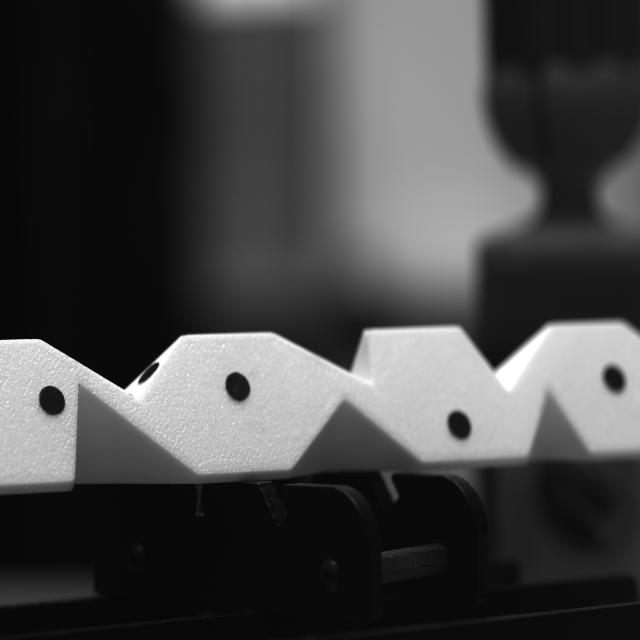circle point: (38, 385, 66, 416), (601, 363, 627, 393), (225, 372, 251, 401), (446, 409, 471, 439)
